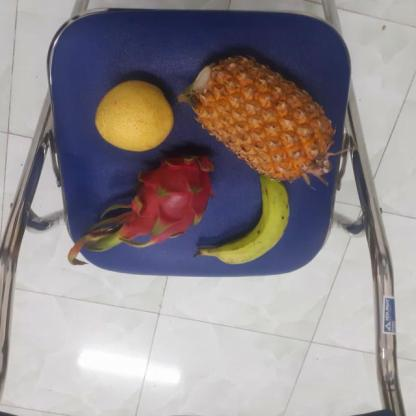banana: (205, 175, 295, 269)
pear: (93, 76, 180, 150)
pineapple: (189, 53, 336, 182)
pitaya: (121, 147, 218, 244)
